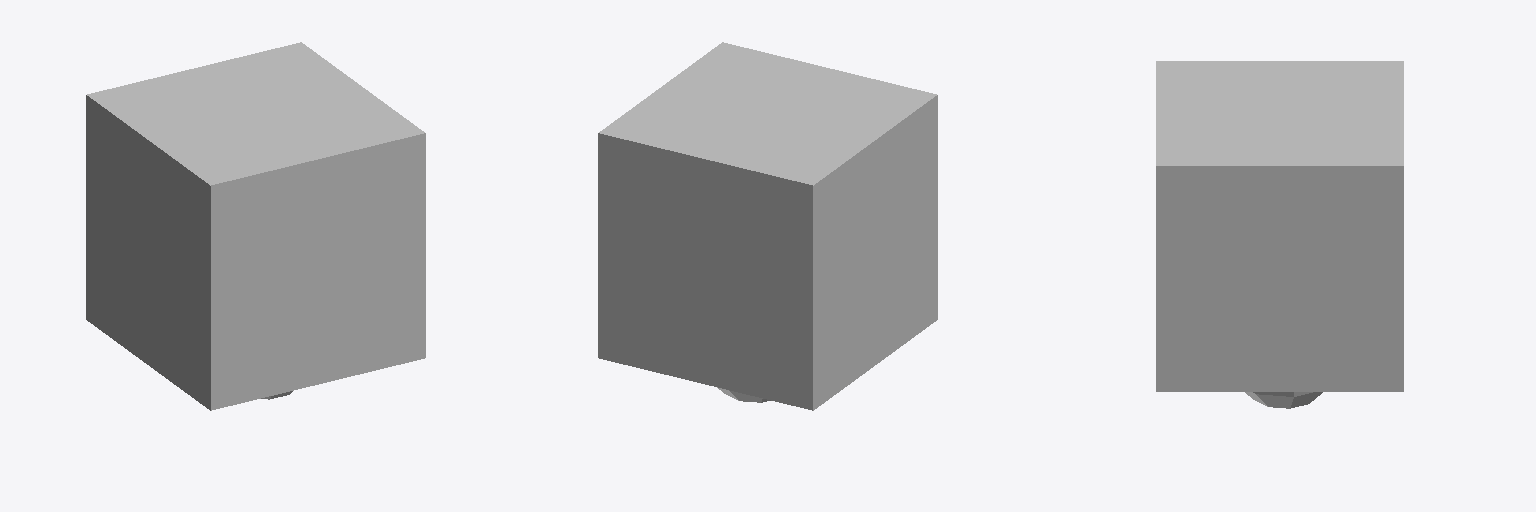
Rendered from large_1.obj.
3 views of the same model, side by side, from view 1: azimuth 30°, elevation 25°; view 2: azimuth 150°, elevation 25°; view 3: azimuth 270°, elevation 25° (orthographic).
Parts seen in each view (by area): view 1: Cube.001_Cube.000; view 2: Cube.001_Cube.000; view 3: Cube.001_Cube.000, Sphere.003_Sphere.009.
Part boxes in pixels (left/top/right/bottom): Cube.001_Cube.000: left=86, top=42, right=425, bottom=410; Cube.001_Cube.000: left=598, top=42, right=937, bottom=410; Cube.001_Cube.000: left=1156, top=61, right=1403, bottom=391; Sphere.003_Sphere.009: left=1245, top=392, right=1322, bottom=408.
Size of the model in its own units: 1 by 1.26 by 1.